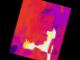Foc: (32, 21, 60, 59), (20, 33, 38, 54), (53, 3, 71, 13)
